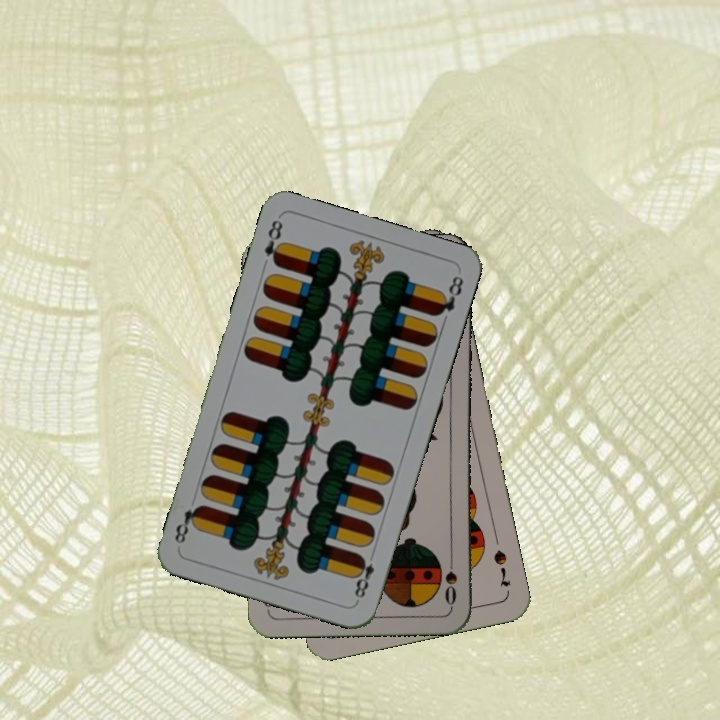E8: (258, 215, 287, 272), (350, 547, 378, 604)
S7: (489, 546, 513, 590)
SO: (440, 549, 459, 608)
